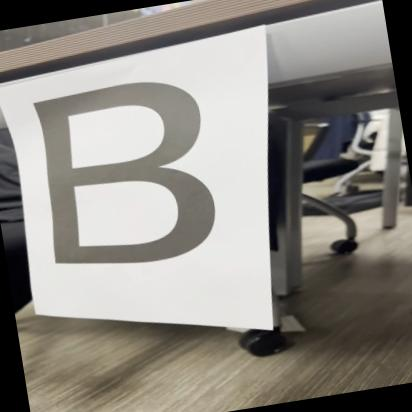seat: (8, 66, 244, 292)
